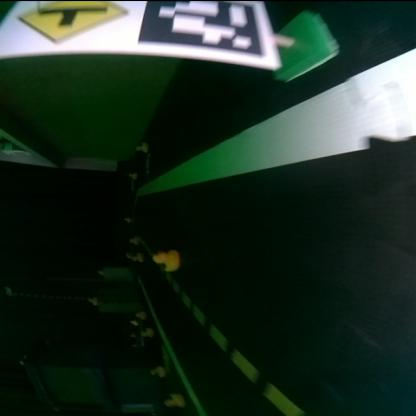Duckie: (154, 252, 178, 272), (164, 392, 184, 406), (151, 367, 163, 377), (138, 142, 148, 152), (143, 330, 150, 336), (134, 254, 140, 260), (130, 319, 136, 325), (124, 218, 132, 222), (129, 176, 136, 180), (136, 314, 143, 318), (131, 238, 137, 242)
Intersection sign: (9, 2, 131, 46)
QR code: (137, 7, 266, 57)
